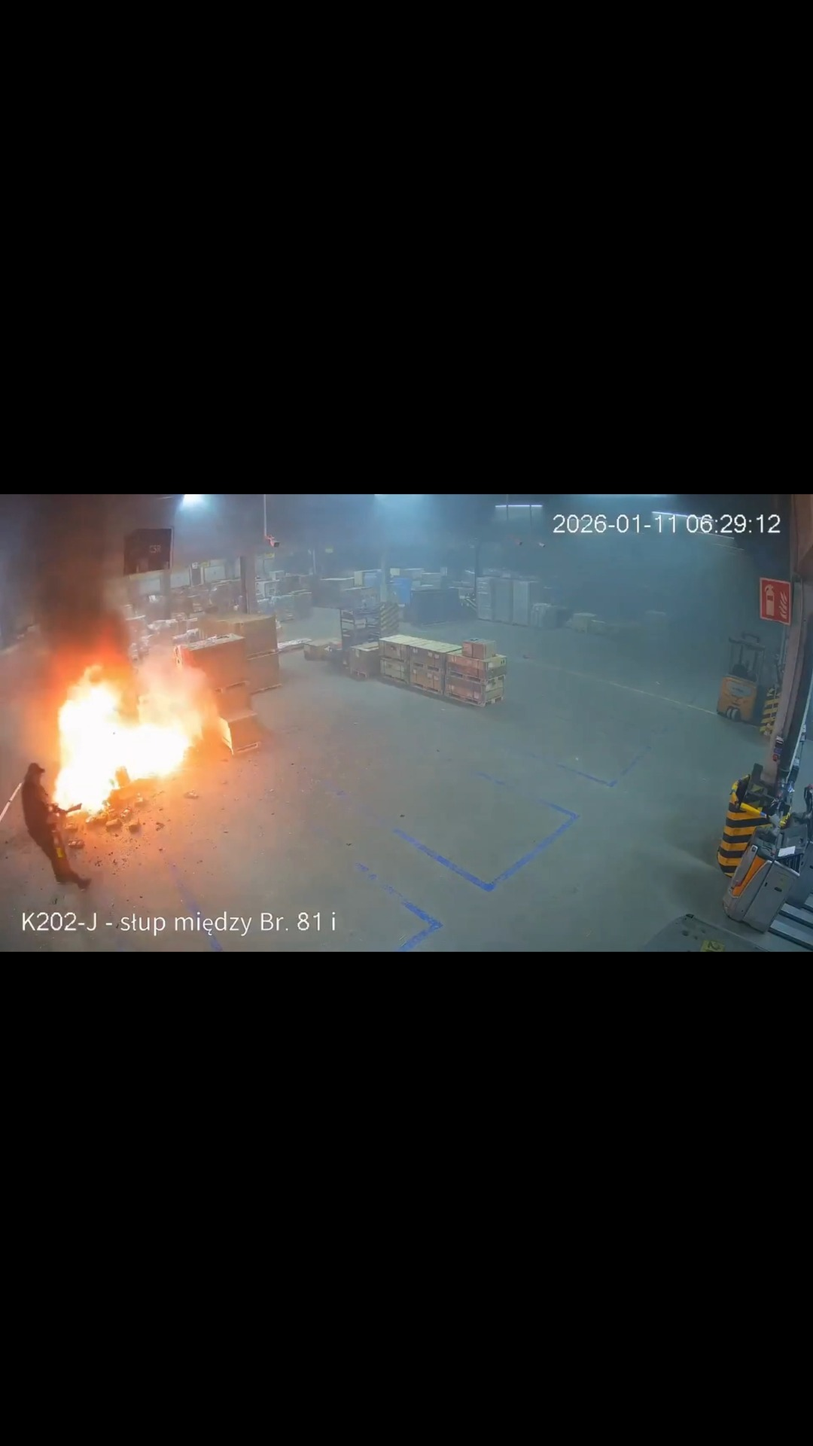fire: (49, 633, 212, 824)
smoke: (1, 498, 162, 686)
